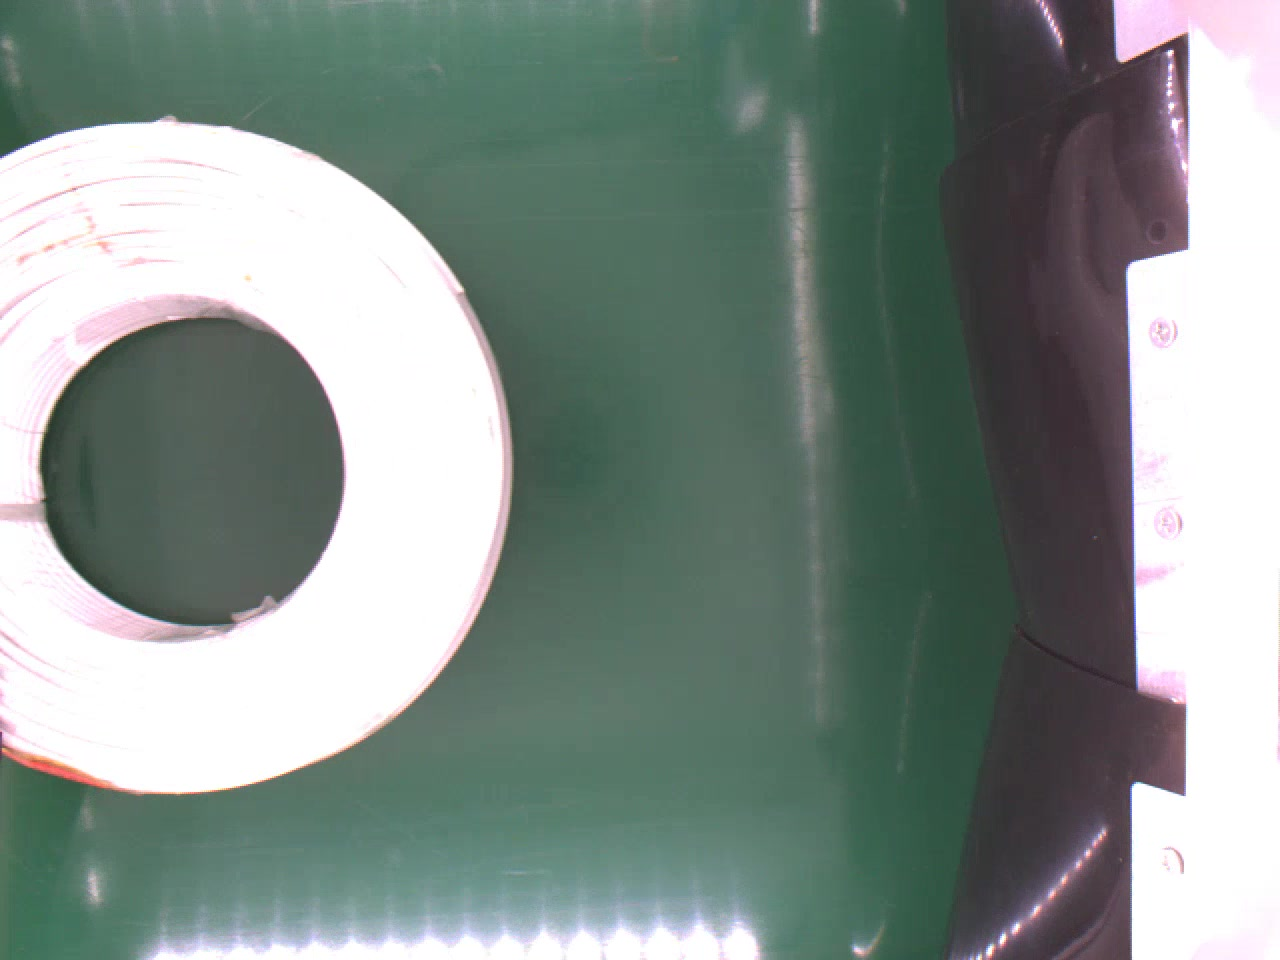white: (0, 117, 524, 797)
